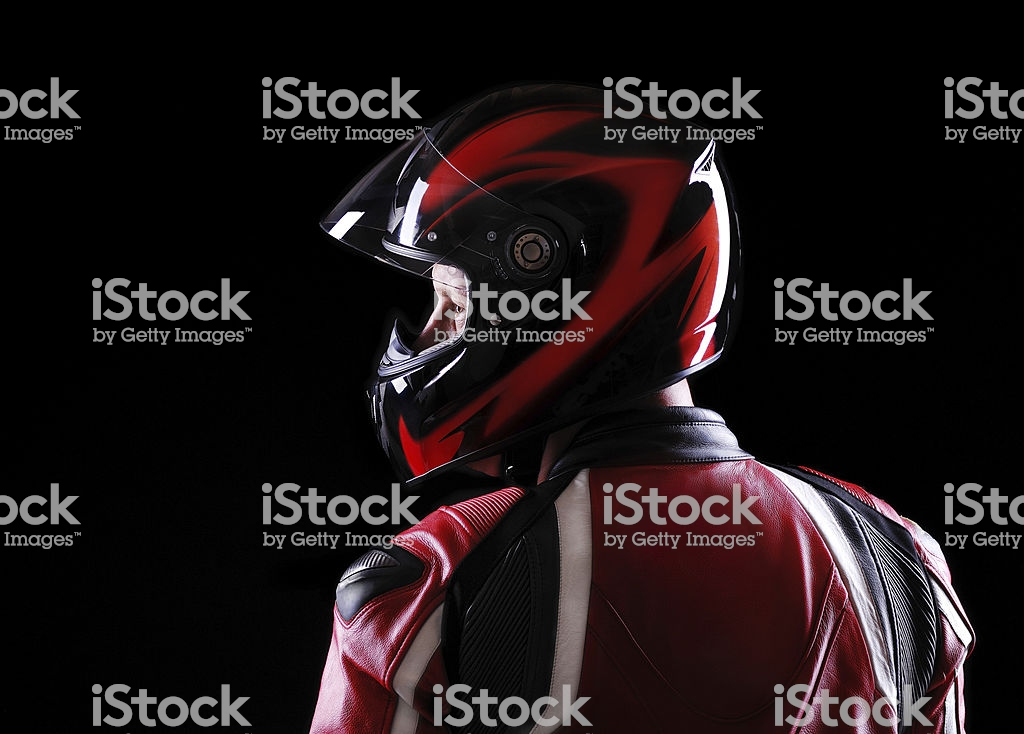helmet: (365, 97, 754, 440)
